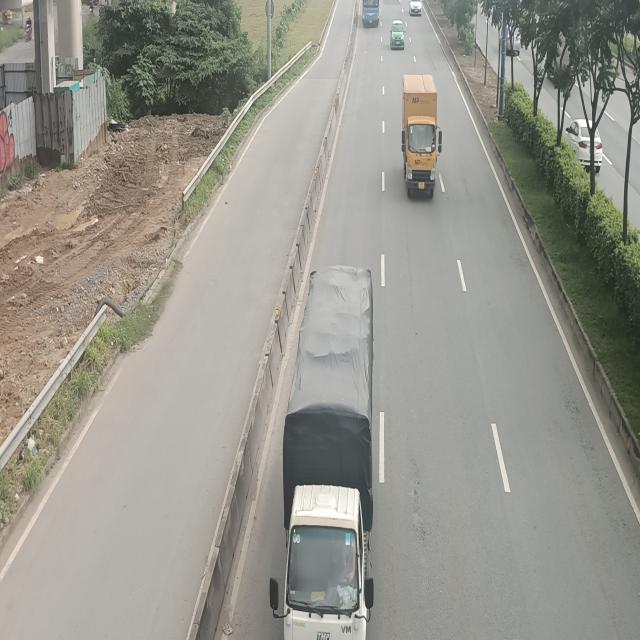car: (390, 20, 405, 50)
coach: (360, 0, 380, 27)
truck: (269, 258, 374, 636), (402, 75, 443, 197)
